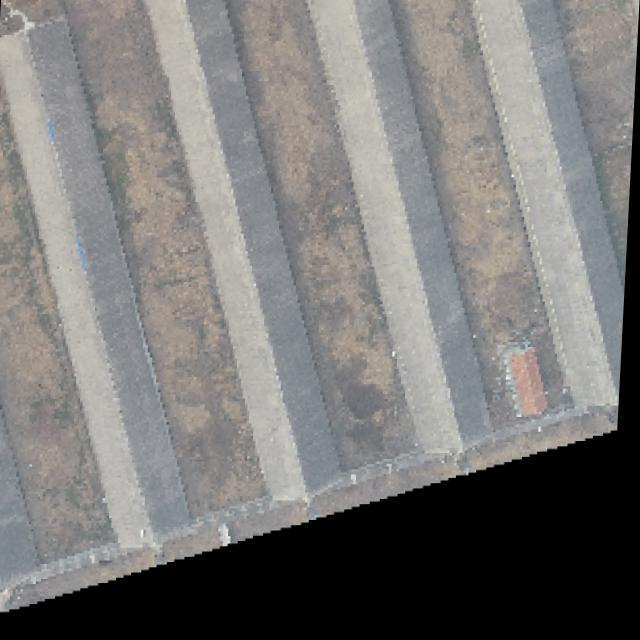Batiment: (307, 0, 464, 454), (469, 0, 628, 408)
